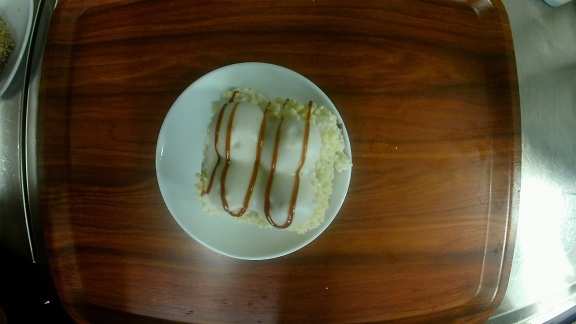beyazpasta: (156, 62, 353, 260)
